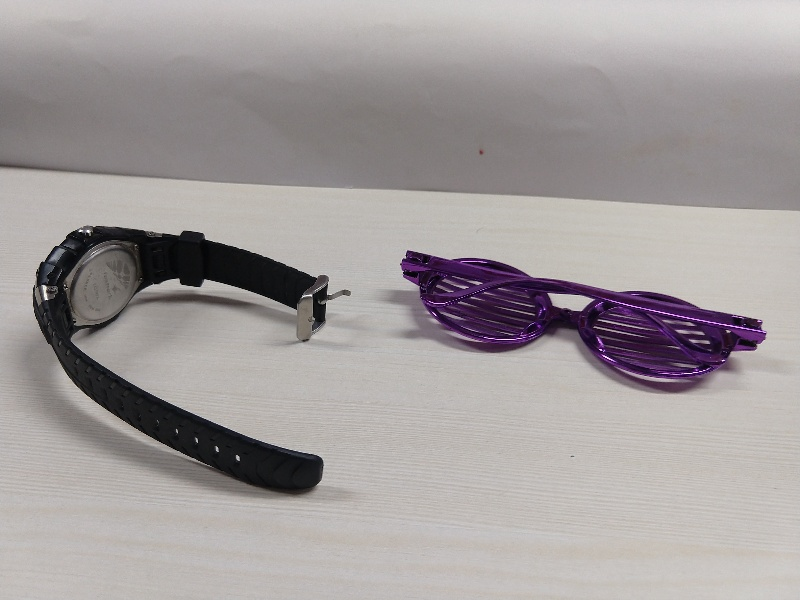shades: (395, 246, 773, 387)
watch: (31, 211, 353, 498)
